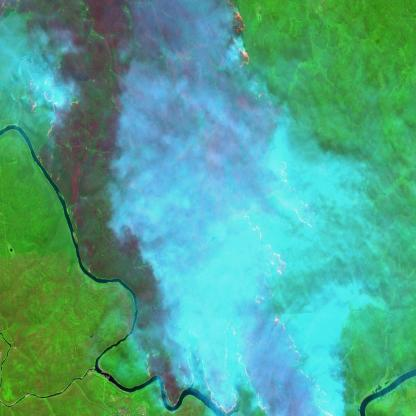fire: (211, 0, 272, 108)
